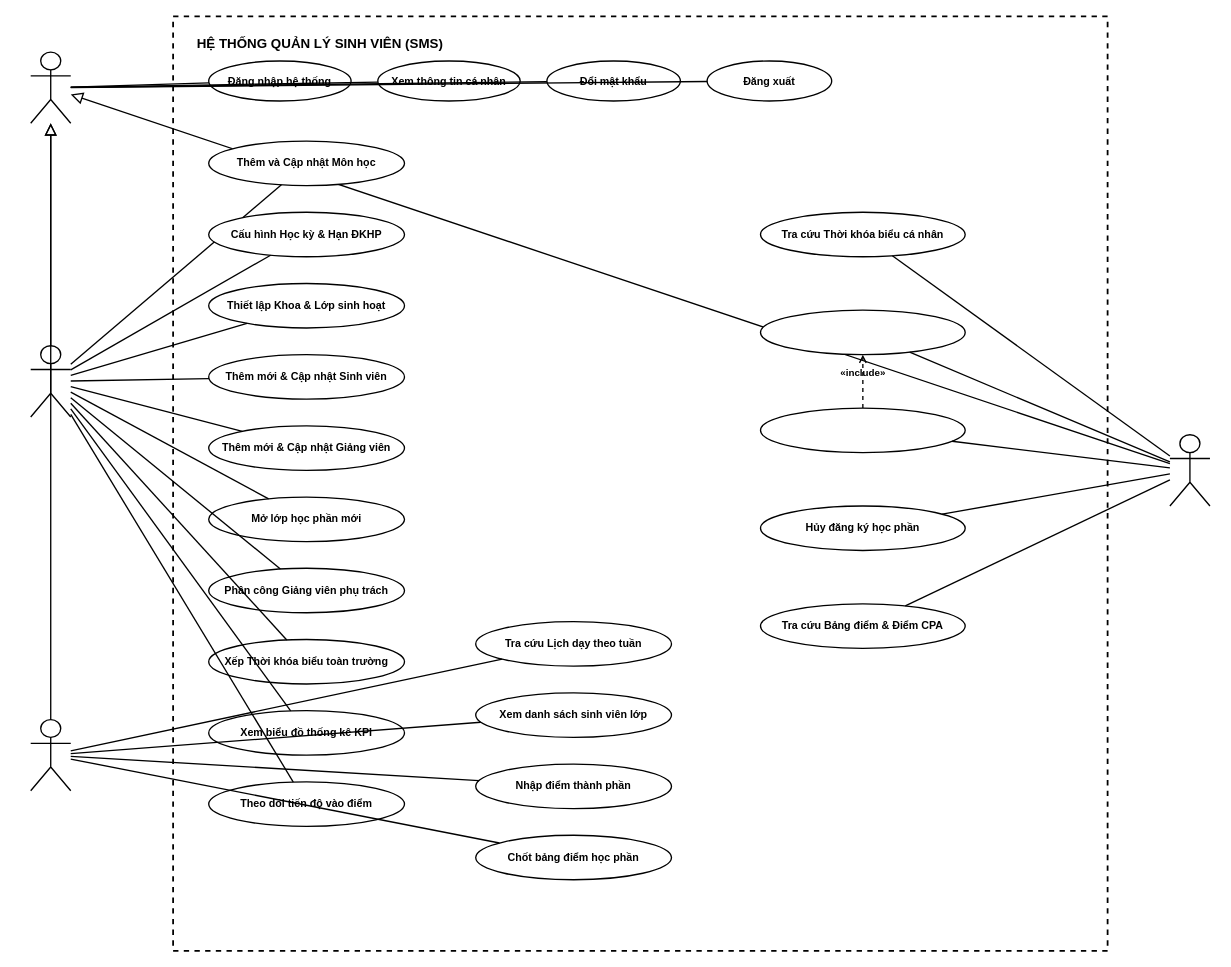
Image size: 1231x967. Some labels were removed from this diagram. The shapes that lost their labels are listed below. From the top down, each one's box as (x1, y1, x2, y2) in pixels, then its label:
(30, 51, 71, 124): Người dùng (User)
(759, 309, 965, 355): Tra cứu học phần mở trong kỳ
(30, 345, 71, 417): Quản trị viên (Admin)
(759, 407, 965, 453): Đăng ký lớp học phần
(1169, 434, 1210, 506): Sinh viên (Student)
(30, 718, 71, 791): Giảng viên (Lecturer)
